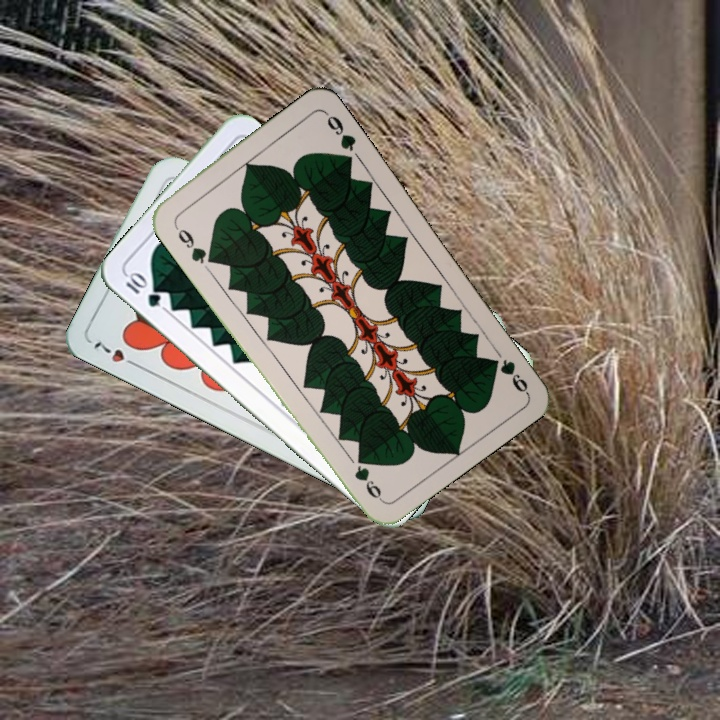G10: (121, 268, 164, 310)
G9: (170, 219, 217, 267), (487, 354, 531, 396)
H7: (89, 337, 143, 371)
